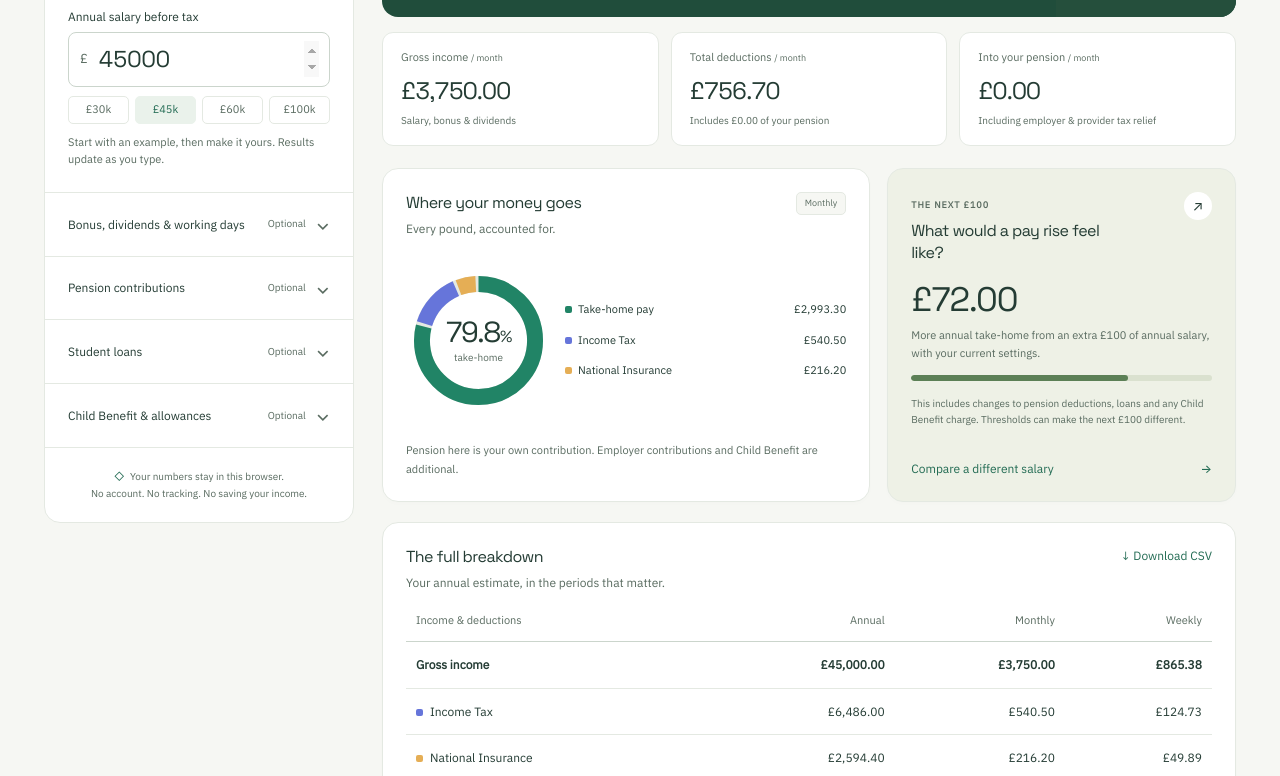
Test: fractional child counts are rejected rather than silently rounded
(page scrolled)
Click the text "Child Benefit & allowances" at [140, 416], box [68, 406, 211, 425]
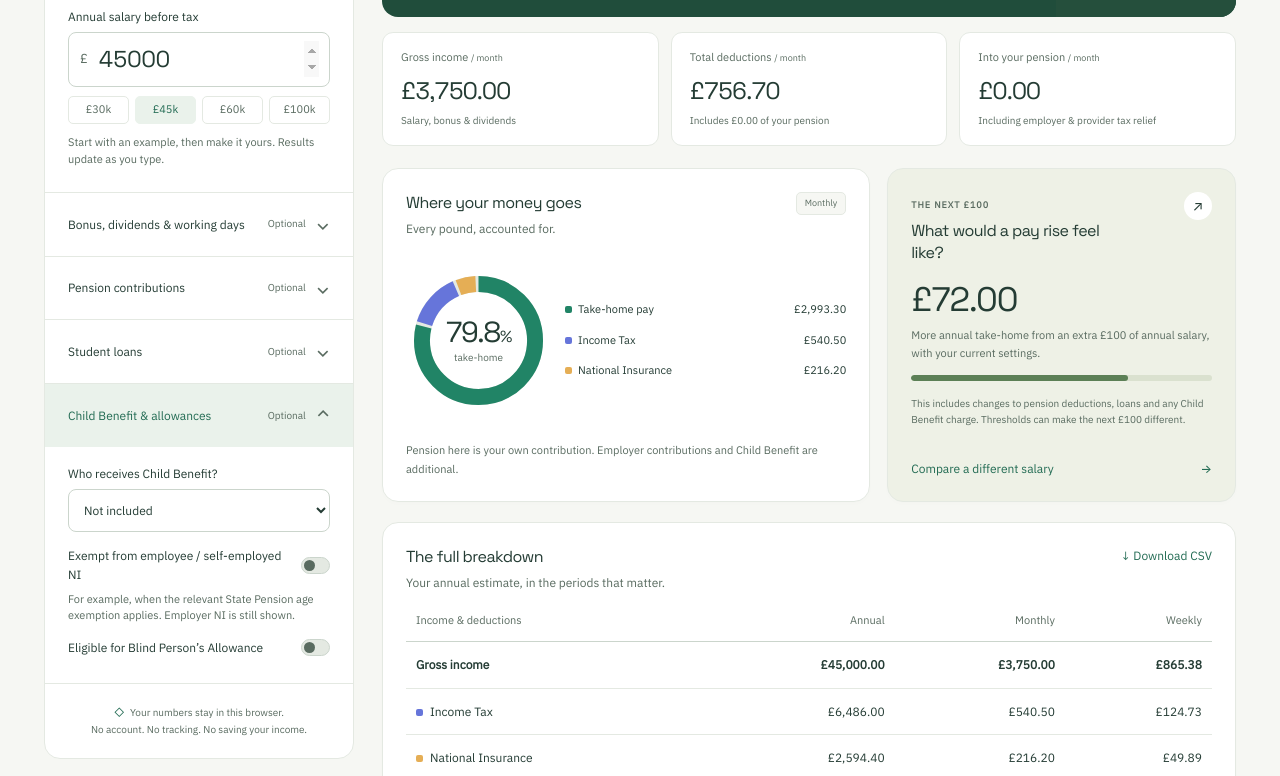
Select "I do" in the dropdown labelled "Who receives Child Benefit?" at [199, 511], box [68, 489, 330, 532]
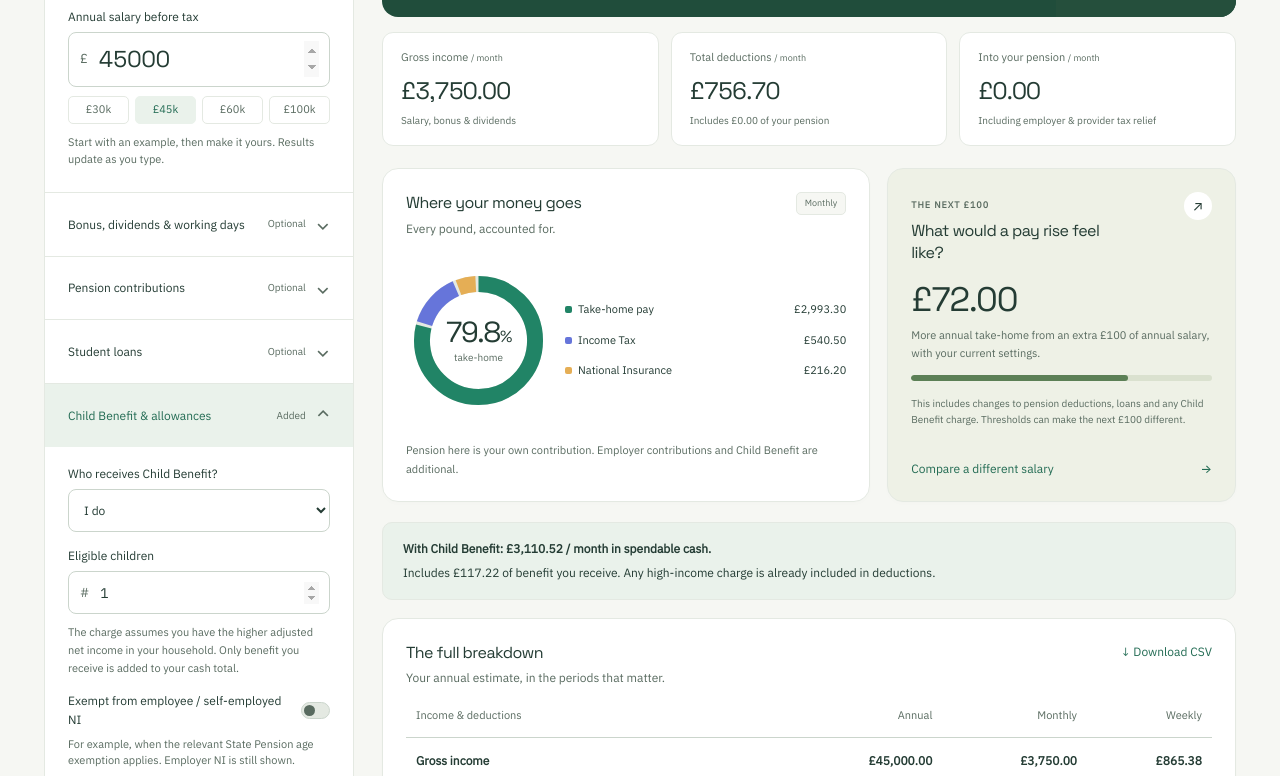
Replace the text in the number field labelled "Eligible children" with "1.5" at [215, 593], box [100, 574, 329, 612]
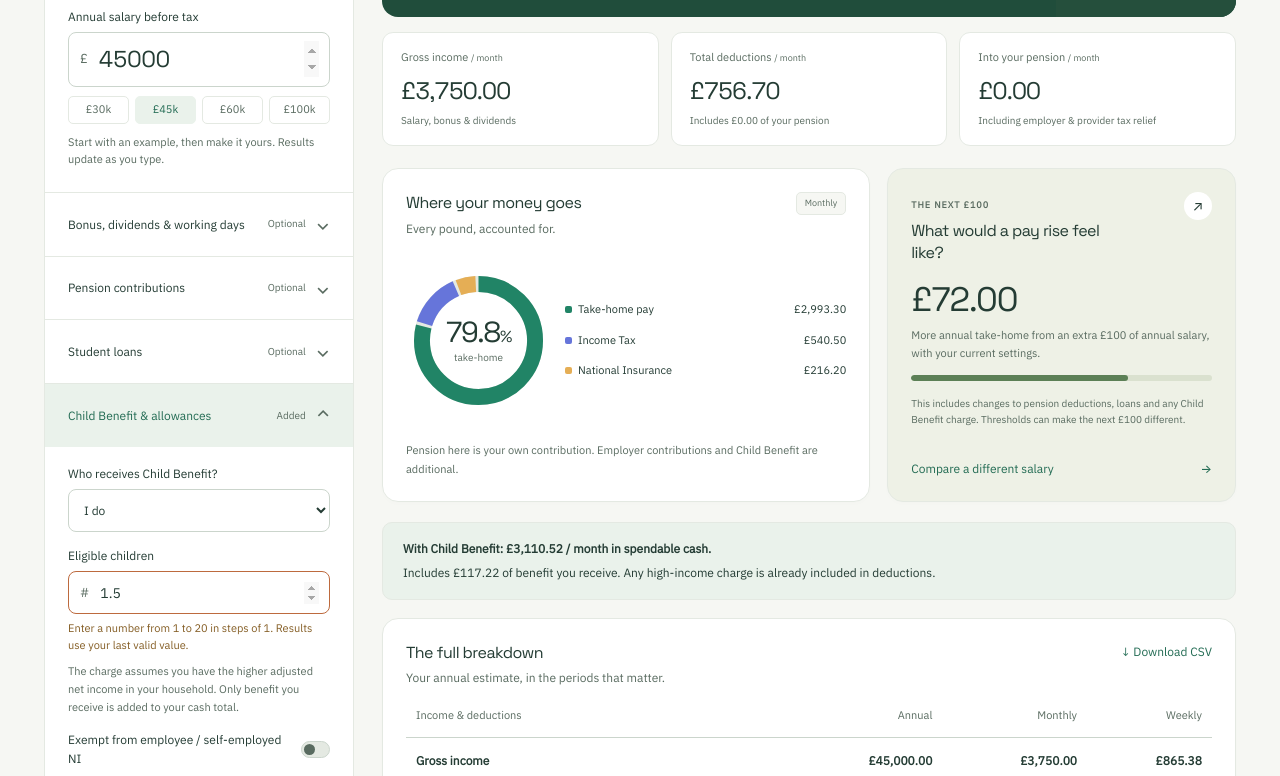
expect the text "in steps of 1" is shown: met, box [68, 621, 312, 652]
